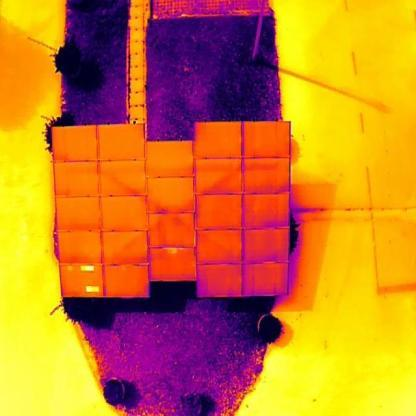anomaly: (79, 265, 97, 274), (84, 285, 99, 293)
